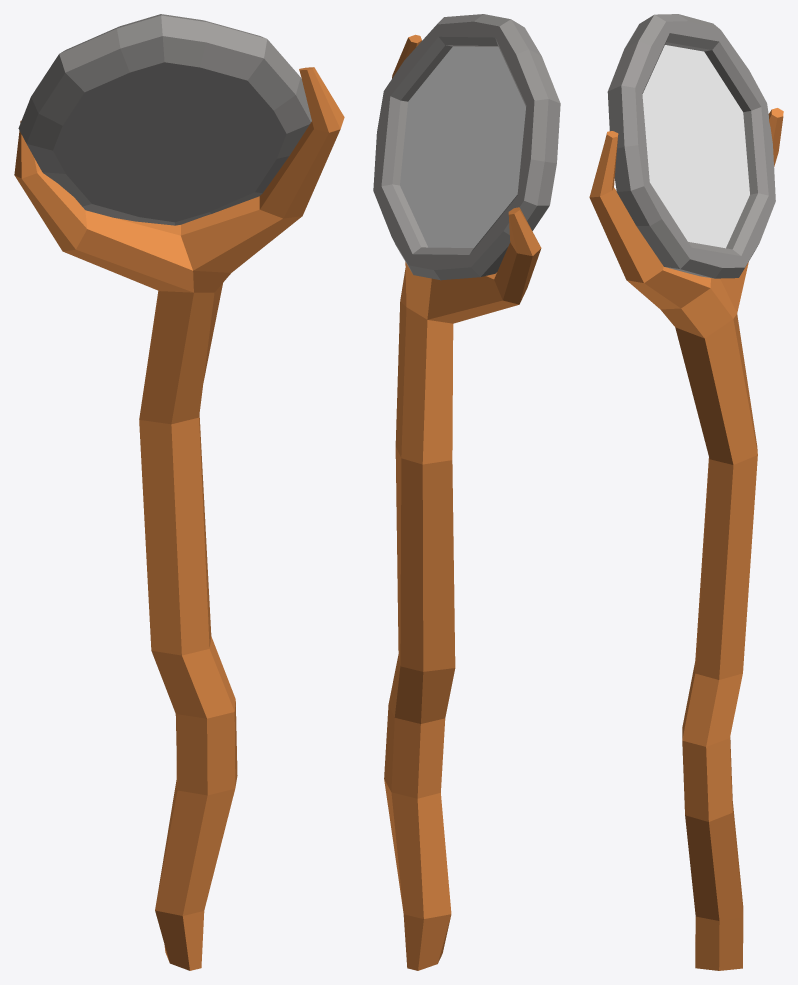
The model's file is WatchWand.fbx.
The picture shows the model from 3 angles, left to right: view 1: azimuth 30°, elevation 25°; view 2: azimuth 150°, elevation 25°; view 3: azimuth 270°, elevation 25°; orthographic projection. The views are drawn at different scales.
Visible parts, largest first — view 1: Cube; view 2: Cube; view 3: Cube.
Part boxes in pixels (<box>): Cube: <box>14,14,344,970</box>; Cube: <box>373,14,560,970</box>; Cube: <box>589,14,783,970</box>.
Size of the model in its own units: 14.74 by 10.87 by 57.18.
